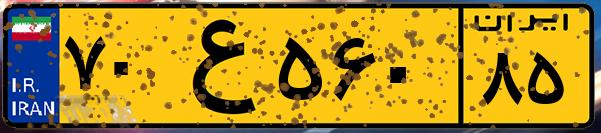0: (385, 28, 445, 110), (110, 28, 158, 98)
5: (270, 28, 330, 110), (525, 38, 570, 115)
6: (330, 28, 385, 110)
7: (57, 26, 110, 100)
8: (475, 38, 525, 113)
ع: (158, 12, 270, 120)
